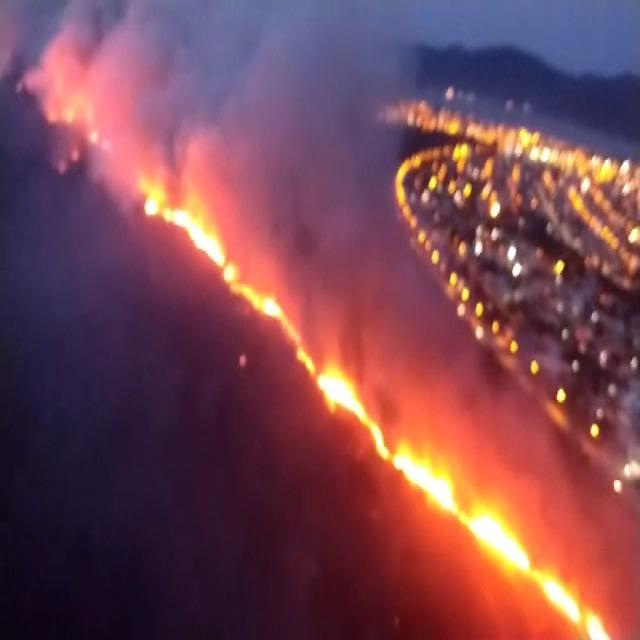Fire: (320, 360, 611, 640), (141, 178, 316, 386), (58, 84, 98, 136)
Smoke: (13, 0, 428, 124), (18, 9, 203, 89)
